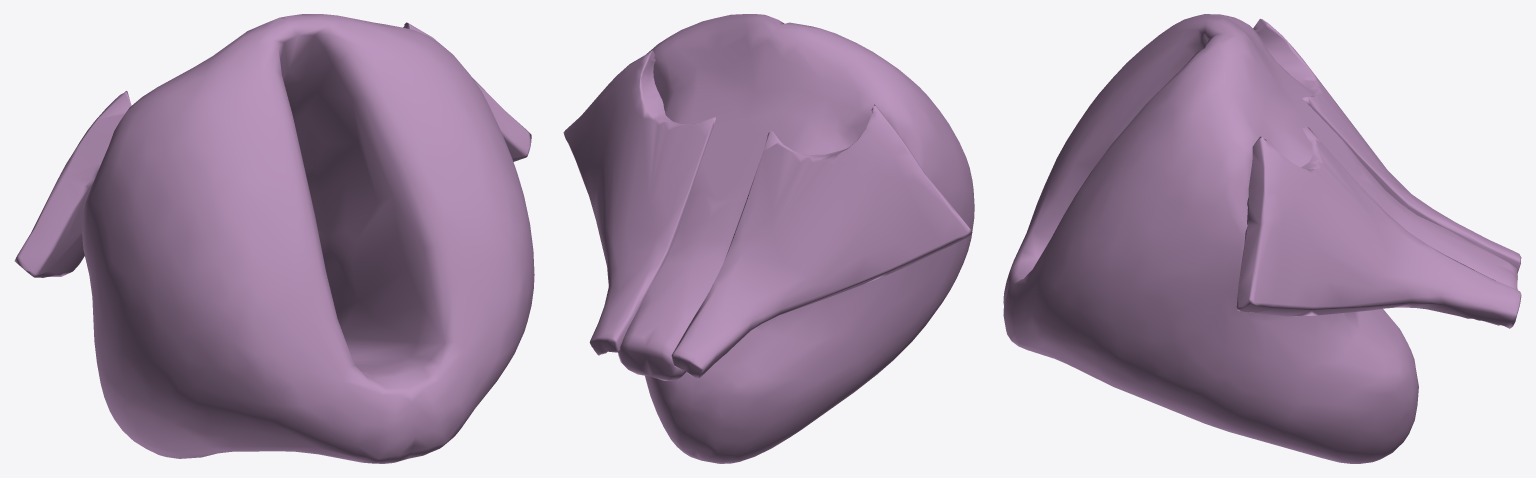
The picture shows the model from 3 angles, left to right: view 1: azimuth 30°, elevation 25°; view 2: azimuth 150°, elevation 25°; view 3: azimuth 270°, elevation 25°; orthographic projection. The views are drawn at different scales.
Parts seen in each view (by area): view 1: 下丘脑; view 2: 下丘脑; view 3: 下丘脑.
Boxes of the visible parts, x1=… form: 下丘脑: x1=14, y1=14, x2=534, y2=463; 下丘脑: x1=563, y1=14, x2=974, y2=463; 下丘脑: x1=1003, y1=14, x2=1521, y2=463.
Size of the model in its own units: 0.0284 by 0.0256 by 0.0286.
